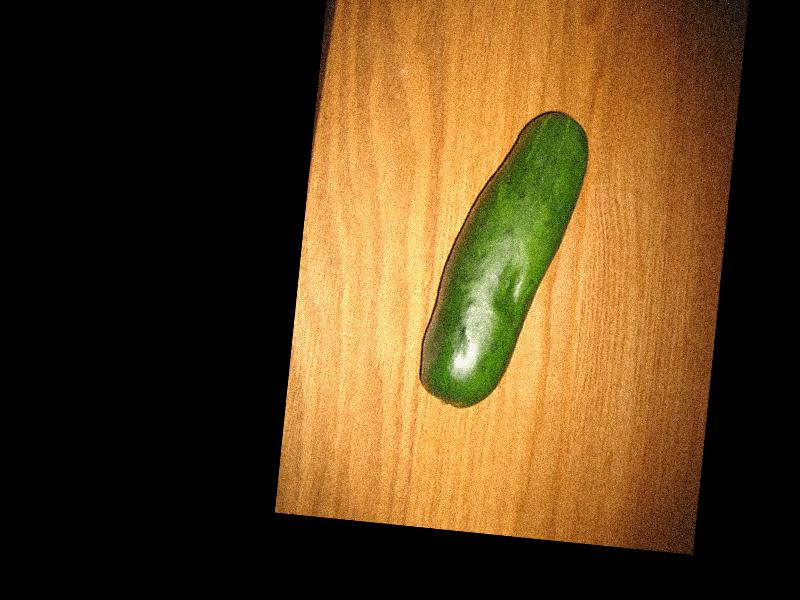Cucumber: (416, 99, 590, 413)
